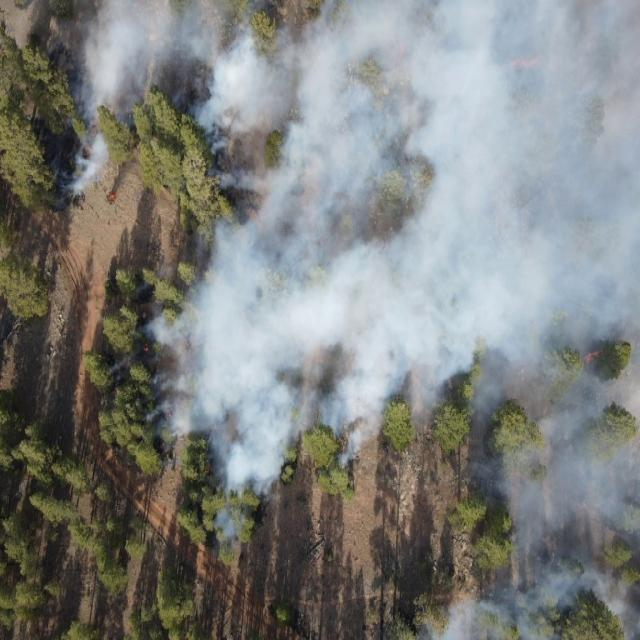fire: (494, 56, 542, 70), (583, 348, 601, 363), (108, 193, 117, 203), (142, 344, 150, 354), (166, 410, 173, 420)
smoke: (197, 132, 640, 466), (43, 1, 640, 131), (463, 469, 640, 640), (105, 232, 196, 448), (214, 468, 282, 554), (34, 132, 106, 206), (416, 596, 464, 640)
